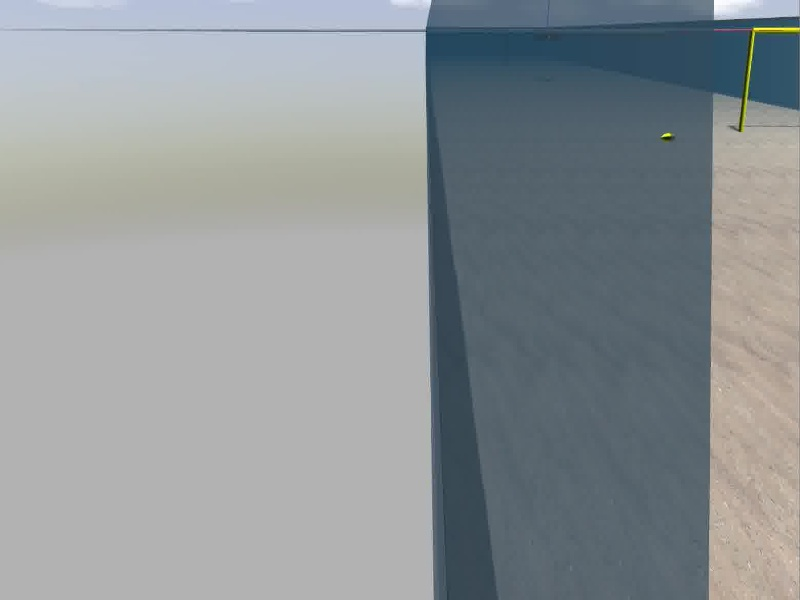gate: (737, 27, 800, 131)
